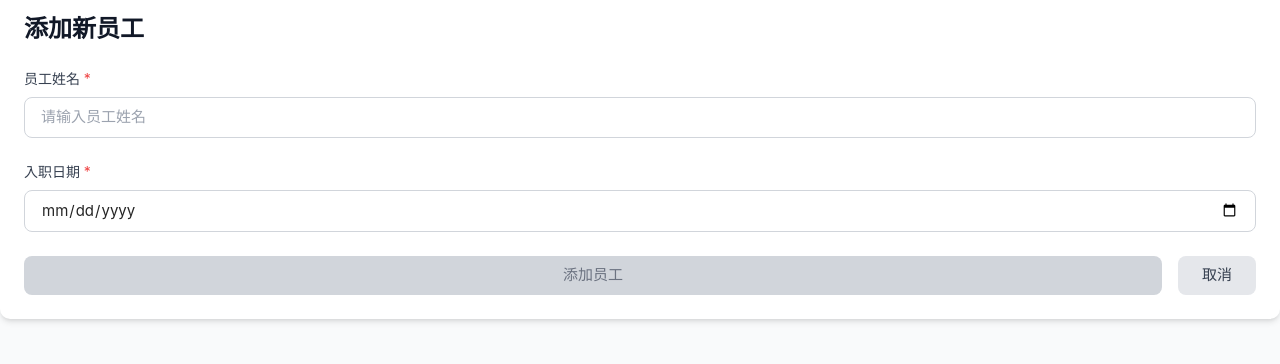
EmployeeForm.vue › 表单验证 - 入职日期字段 › 入职日期为空时应该显示错误
Type "张三" into the field with id "name". click: x=640, y=117
box: [24,97,1256,138]
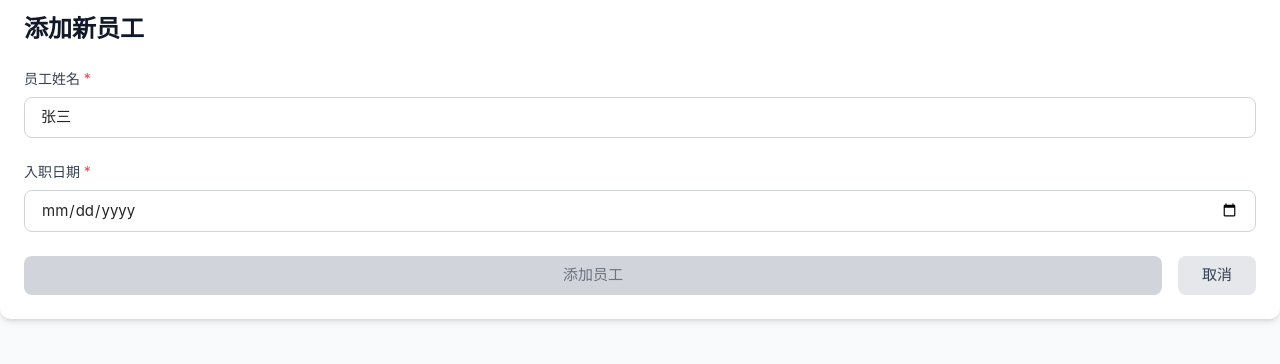
Submit the form, box [24,69,1256,294]
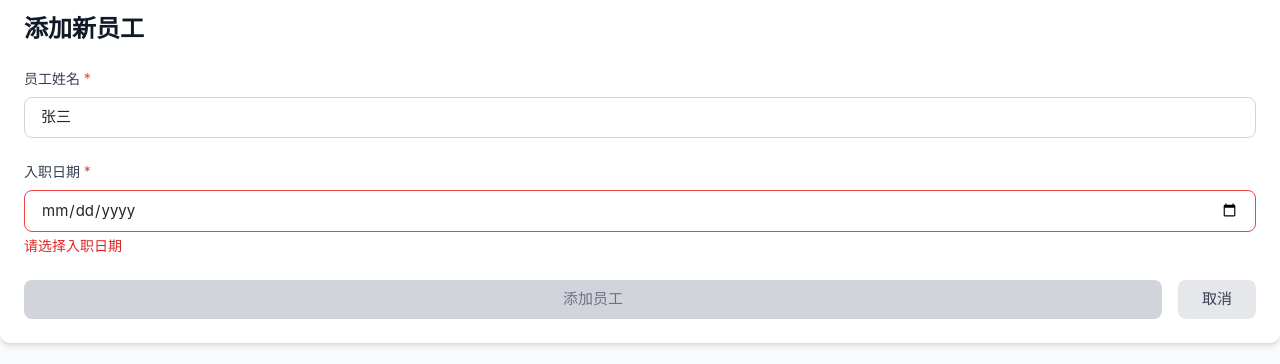
Expected: the text "请选择入职日期" is shown, [24,237,122,254]
